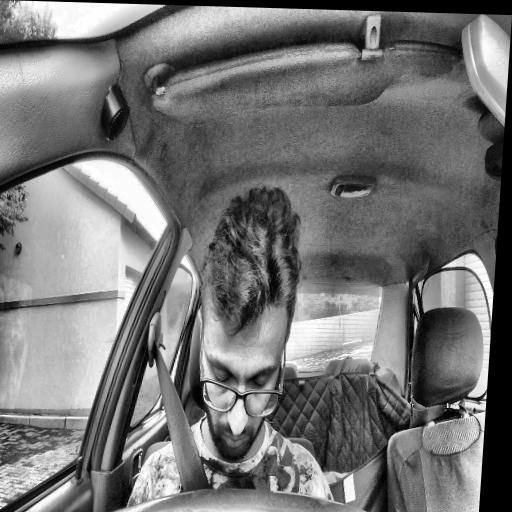drowsy: (186, 181, 308, 466)
